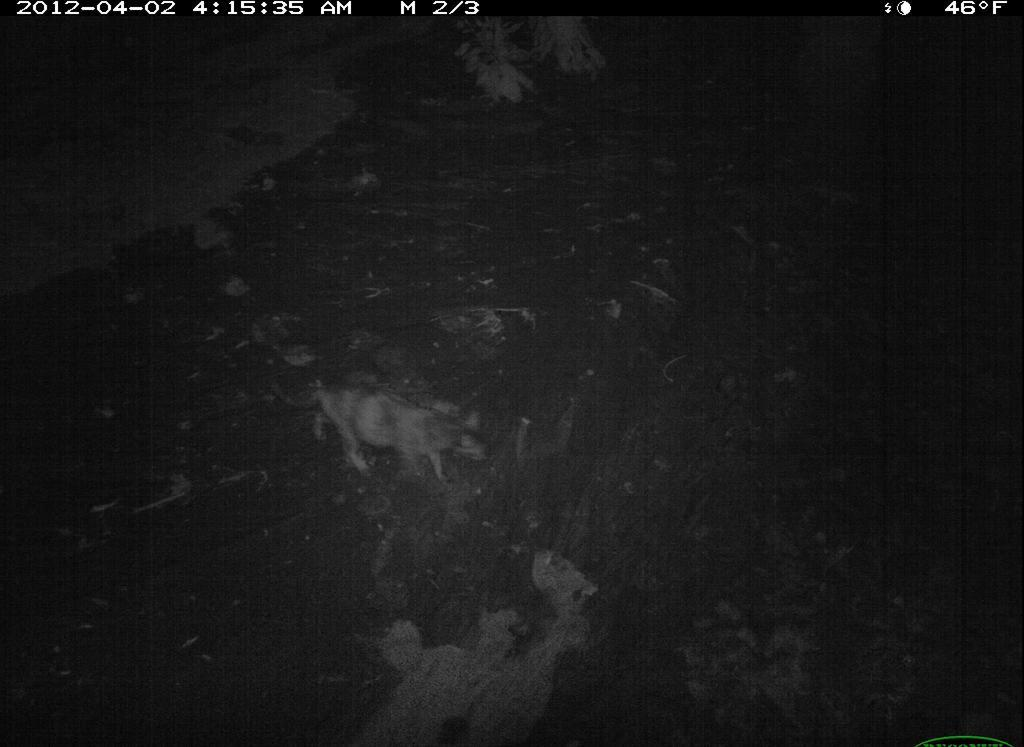cat: (297, 363, 496, 491)
